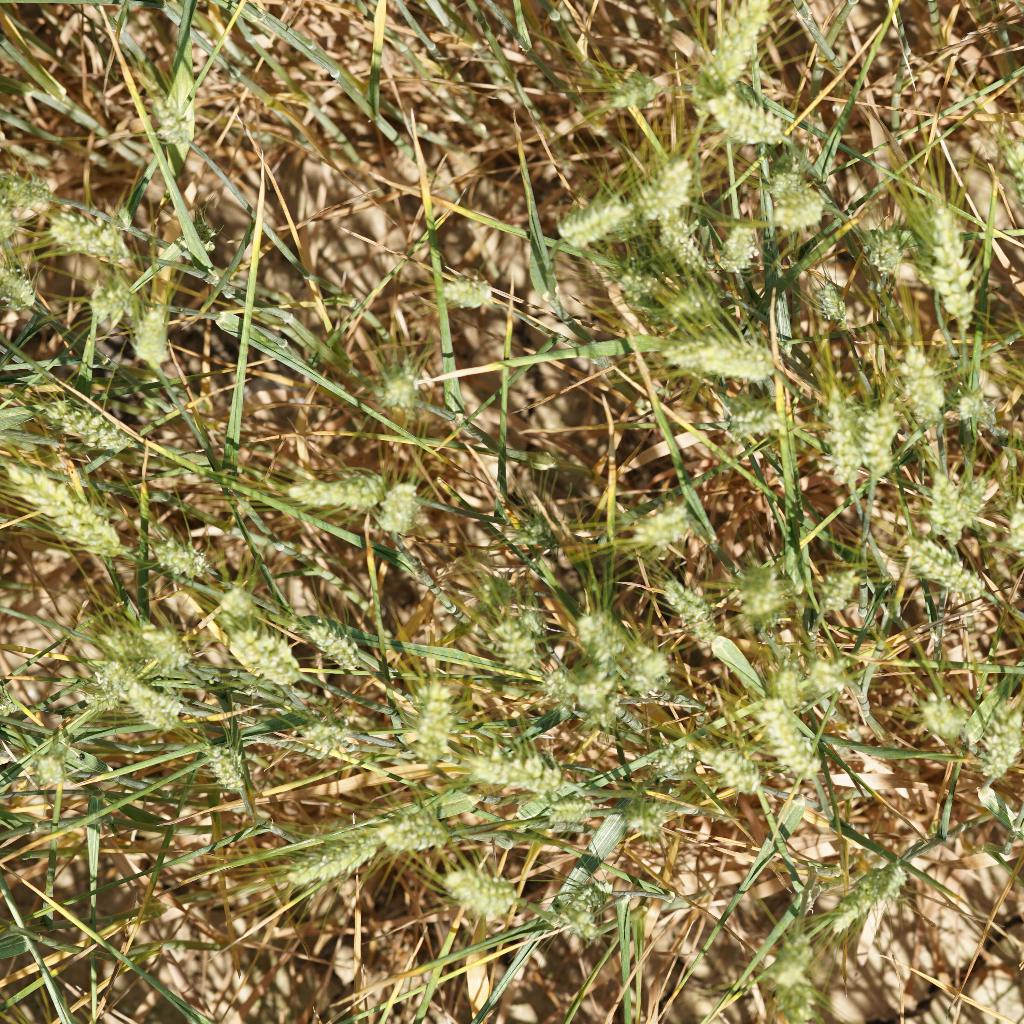0-0: (0, 464, 124, 563), (2, 381, 135, 460), (911, 198, 996, 321), (819, 845, 912, 938), (276, 822, 387, 897), (897, 526, 1001, 605), (451, 733, 567, 800), (681, 6, 777, 85), (757, 702, 844, 789), (40, 208, 141, 275), (88, 606, 191, 671), (660, 324, 788, 376), (437, 863, 527, 934), (698, 93, 798, 154), (94, 669, 185, 735), (894, 340, 957, 434), (918, 451, 978, 548), (281, 462, 388, 514), (485, 597, 560, 671), (220, 621, 302, 687), (747, 167, 830, 232), (751, 919, 829, 987), (808, 391, 866, 482), (799, 555, 870, 628), (676, 737, 768, 793), (533, 662, 626, 716), (135, 519, 208, 587), (937, 373, 1009, 440), (630, 157, 705, 221), (538, 884, 605, 955), (616, 494, 702, 548), (299, 609, 367, 677), (406, 661, 455, 755), (587, 56, 661, 118), (664, 574, 731, 642), (118, 294, 174, 373), (972, 695, 1024, 778), (848, 395, 899, 478), (552, 194, 628, 249), (567, 598, 630, 664), (729, 555, 792, 620), (377, 806, 458, 855), (372, 473, 430, 538), (145, 78, 194, 154), (656, 275, 735, 322), (707, 396, 795, 438), (862, 228, 919, 292), (911, 683, 974, 740), (608, 641, 680, 690), (806, 265, 856, 333), (762, 656, 855, 692), (656, 223, 713, 281), (196, 732, 249, 794), (362, 362, 421, 417), (610, 789, 672, 841), (17, 736, 75, 791), (290, 717, 347, 772), (643, 735, 700, 790), (762, 978, 830, 1024), (429, 266, 501, 309), (713, 217, 772, 268), (0, 164, 49, 225), (90, 276, 135, 339), (0, 257, 43, 322), (505, 508, 560, 557), (602, 265, 657, 306), (211, 584, 258, 628), (174, 212, 217, 257), (544, 795, 598, 827)
